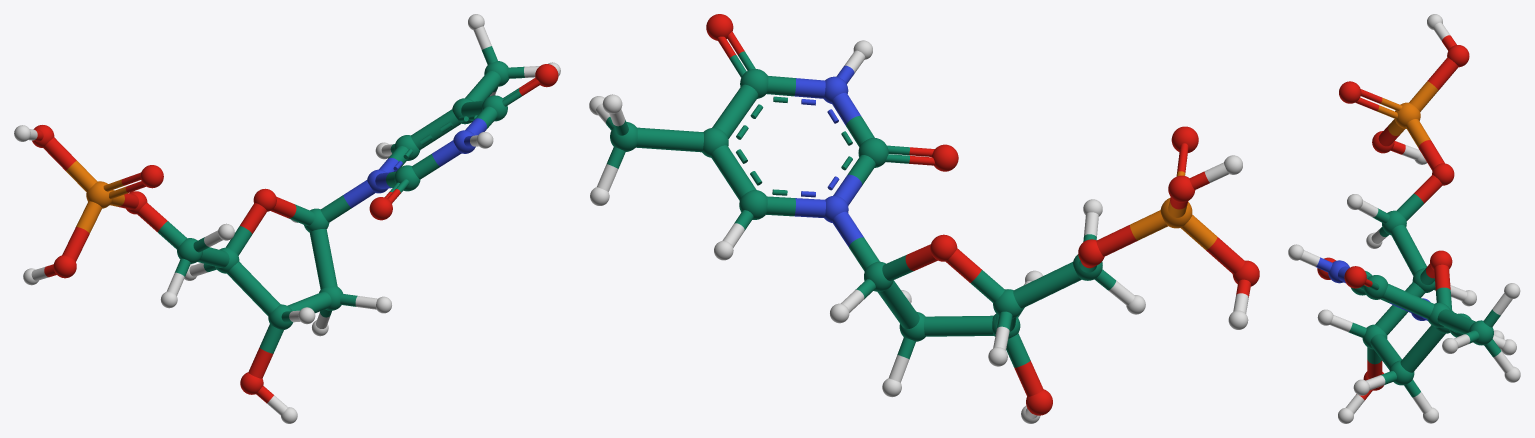
3 renders of one model, left to right at view 1: azimuth 30°, elevation 25°; view 2: azimuth 150°, elevation 25°; view 3: azimuth 270°, elevation 25°, orthographic. The views are drawn at different scales.
Size of the model in its own units: 12.49 by 6.85 by 4.73.
